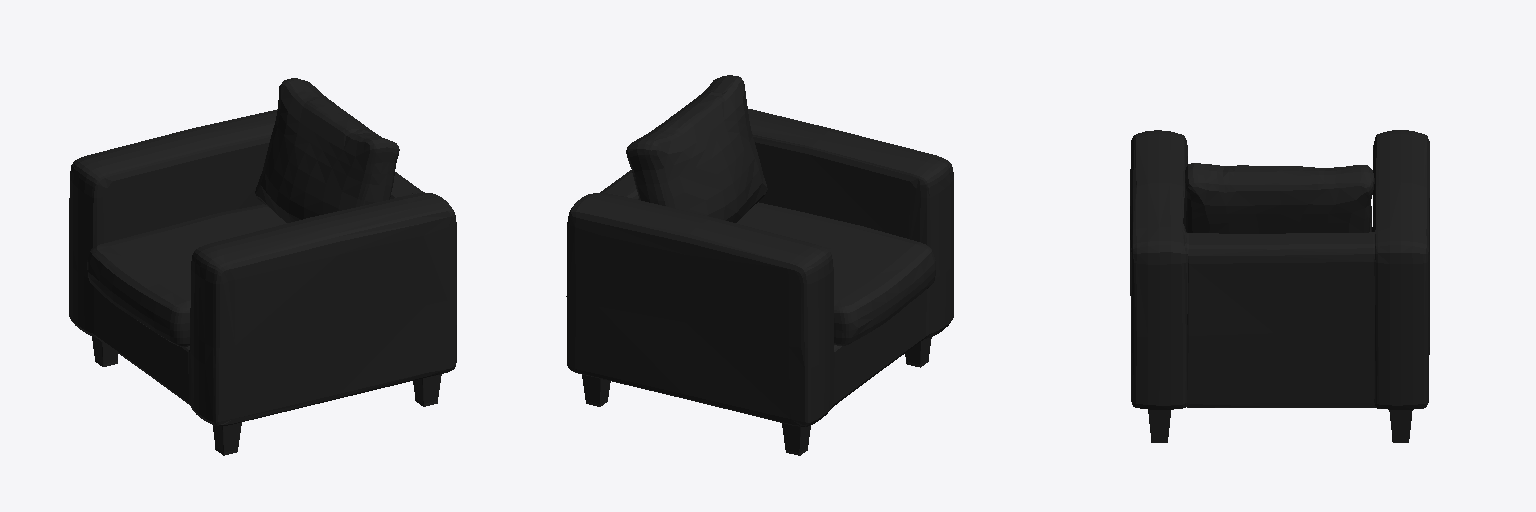
Rendered from couch.obj.
3 renders of one model, left to right at view 1: azimuth 30°, elevation 25°; view 2: azimuth 150°, elevation 25°; view 3: azimuth 270°, elevation 25°, orthographic.
Visible parts, largest first — view 1: SM_Couch_1seat; view 2: SM_Couch_1seat; view 3: SM_Couch_1seat.
Boxes of the visible parts, x1,y1,x2,y2 form: SM_Couch_1seat: [69, 78, 456, 455]; SM_Couch_1seat: [566, 75, 953, 455]; SM_Couch_1seat: [1130, 130, 1429, 442].
Bounding box in the file's own units: 0.9022 × 0.8456 × 0.8919.